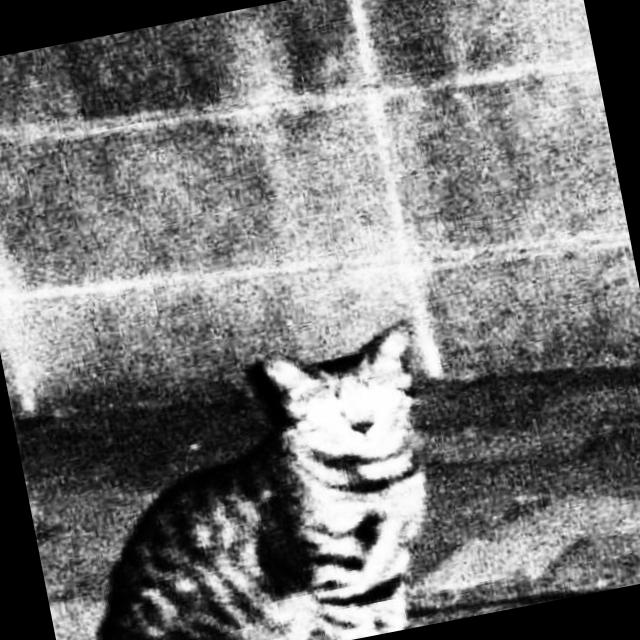Cat: (46, 311, 478, 640)
